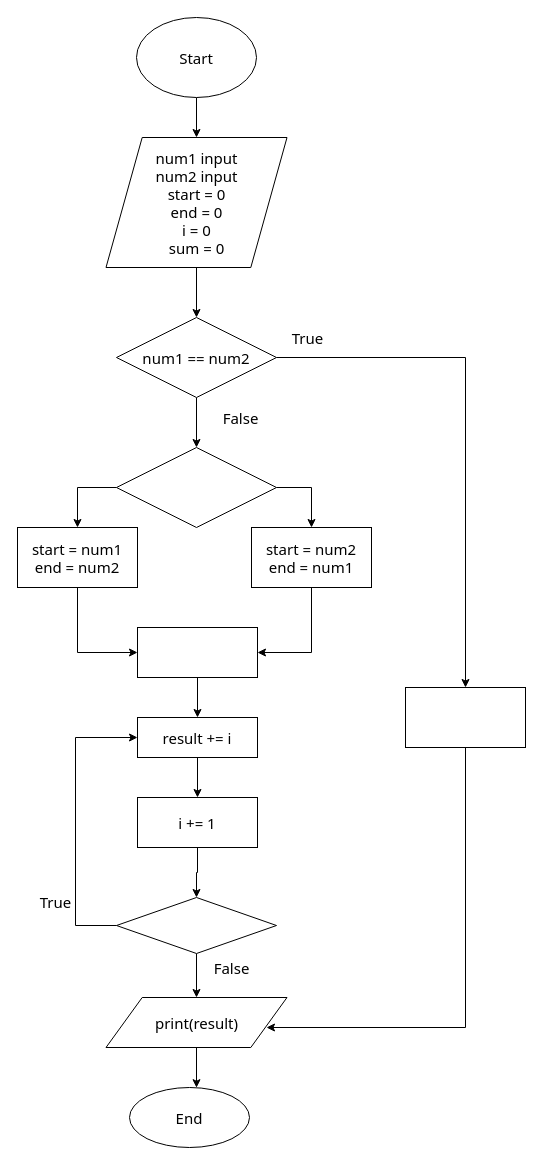
Some shapes in this 543 by 1165 pixel diagram are drawn without their labels. The centre of each missing label's shape, as x and y in pixels:
"i <= end" belongs at [196,925].
"i = start" belongs at [197,652].
"num1 > num2" belongs at [196,487].
"result = num1" belongs at [465,717].
